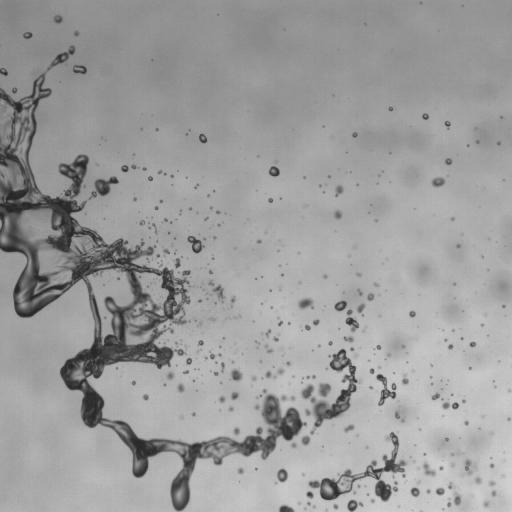droplet: (376, 374, 396, 405), (90, 176, 118, 198), (206, 280, 224, 302), (187, 236, 203, 253), (464, 459, 477, 475), (347, 499, 363, 511), (422, 462, 435, 476), (298, 298, 313, 309), (230, 368, 242, 381), (276, 468, 287, 482), (334, 300, 346, 311), (432, 177, 444, 187), (73, 65, 86, 74), (269, 166, 279, 176), (301, 435, 310, 445), (410, 487, 419, 497), (335, 185, 343, 196), (344, 424, 354, 432), (357, 304, 365, 313), (435, 487, 444, 495), (54, 15, 62, 23), (199, 134, 206, 143), (401, 375, 408, 384), (174, 258, 180, 268), (334, 210, 341, 218), (166, 372, 174, 379), (177, 384, 184, 392), (431, 393, 439, 400), (344, 336, 353, 342), (0, 68, 7, 75), (445, 158, 452, 165), (121, 165, 128, 172), (367, 293, 374, 300), (231, 392, 238, 399), (474, 477, 481, 484), (306, 491, 313, 498), (23, 32, 31, 38), (163, 248, 169, 256), (233, 427, 239, 435), (444, 121, 450, 128), (409, 310, 415, 317), (209, 352, 215, 359), (422, 113, 428, 119), (313, 319, 319, 325), (304, 324, 310, 330), (264, 330, 270, 336), (469, 341, 475, 347), (219, 396, 225, 402), (237, 468, 243, 474), (488, 480, 494, 486), (483, 501, 489, 507), (186, 357, 191, 364), (357, 289, 362, 295), (143, 394, 148, 400), (491, 490, 496, 496), (352, 132, 357, 137), (273, 336, 278, 341), (198, 340, 203, 345), (251, 375, 256, 380), (228, 406, 233, 411), (291, 443, 296, 448), (333, 504, 338, 509), (12, 87, 16, 93), (131, 165, 137, 169), (221, 363, 224, 370), (139, 220, 144, 224), (278, 320, 282, 325), (448, 344, 452, 349), (369, 369, 374, 373), (74, 31, 78, 35), (148, 176, 152, 180), (194, 184, 198, 188), (268, 198, 272, 202), (154, 206, 158, 210), (255, 341, 259, 345), (328, 341, 332, 345), (376, 345, 380, 349), (286, 361, 290, 365), (464, 421, 468, 425), (490, 463, 494, 467), (439, 466, 443, 470), (426, 489, 430, 493), (210, 317, 215, 320), (183, 370, 188, 373), (158, 170, 162, 173), (133, 197, 136, 201), (216, 210, 220, 213), (323, 275, 327, 278), (374, 283, 378, 286), (198, 322, 201, 326), (214, 372, 218, 375), (450, 463, 454, 466), (389, 107, 392, 110), (257, 240, 260, 243), (156, 254, 159, 257), (209, 270, 212, 273), (357, 273, 360, 276), (198, 299, 201, 302), (350, 347, 353, 350), (354, 354, 357, 357), (132, 381, 135, 384), (462, 399, 465, 402), (371, 499, 374, 502), (307, 502, 310, 505), (497, 142, 500, 144), (143, 167, 145, 170), (451, 217, 453, 220), (457, 244, 459, 247), (481, 323, 483, 326), (318, 344, 320, 347), (192, 413, 195, 415), (507, 418, 510, 420), (445, 438, 448, 440), (205, 217, 207, 219), (502, 305, 504, 307), (363, 329, 365, 331), (402, 346, 404, 348), (198, 350, 200, 352), (205, 357, 207, 359), (370, 386, 372, 388), (509, 389, 511, 391), (258, 395, 260, 397), (502, 474, 504, 476), (357, 485, 359, 487)
ligament: (0, 73, 306, 511), (308, 432, 407, 501), (300, 348, 361, 434), (46, 45, 75, 71), (447, 482, 461, 507), (345, 309, 358, 332), (264, 368, 283, 379), (442, 400, 458, 409), (278, 504, 294, 511), (395, 412, 404, 421), (264, 344, 272, 353), (230, 296, 235, 307), (152, 224, 157, 232), (307, 375, 315, 378)
